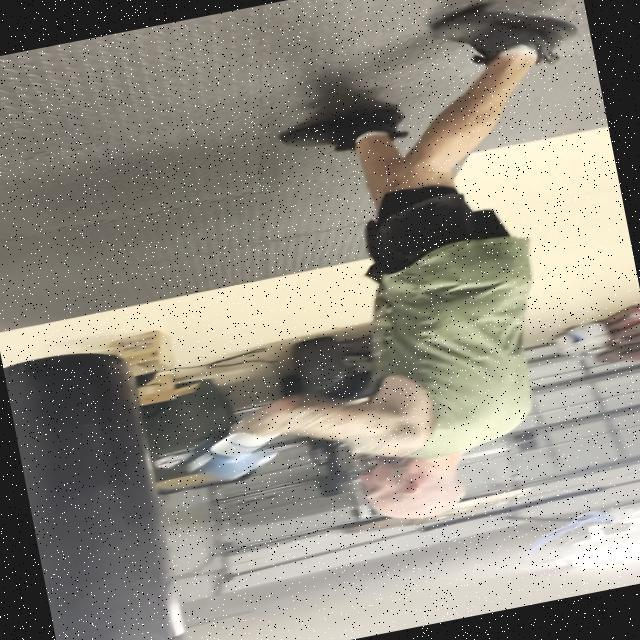bag: (2, 334, 207, 640)
cross: (167, 332, 584, 561)
